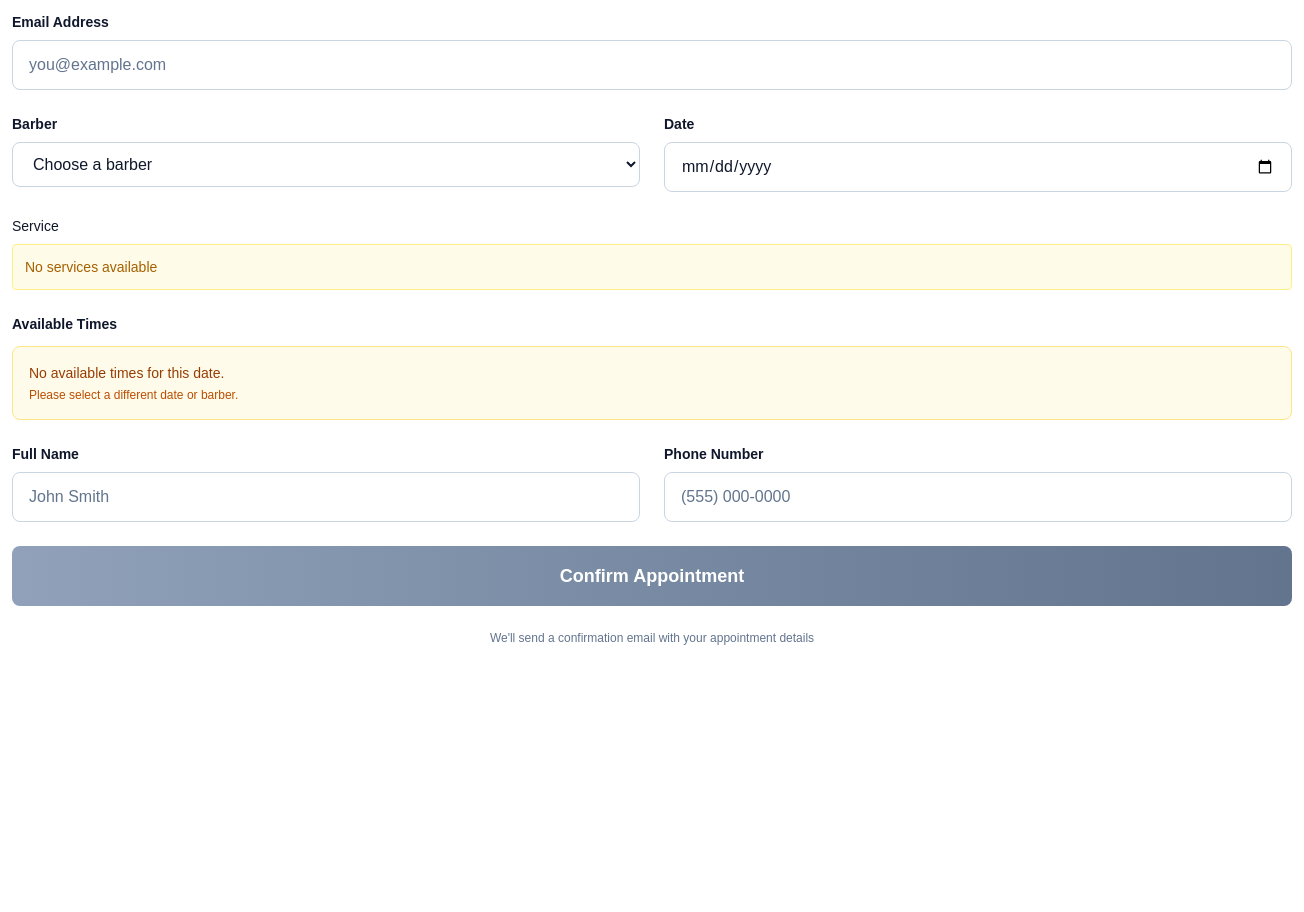
Test: BookingForm Component › Customer Lookup › should show styling notes for returning customer
Type "jane@example.com" into the field labelled "Email Address" at (652, 65), box [12,40,1292,90]
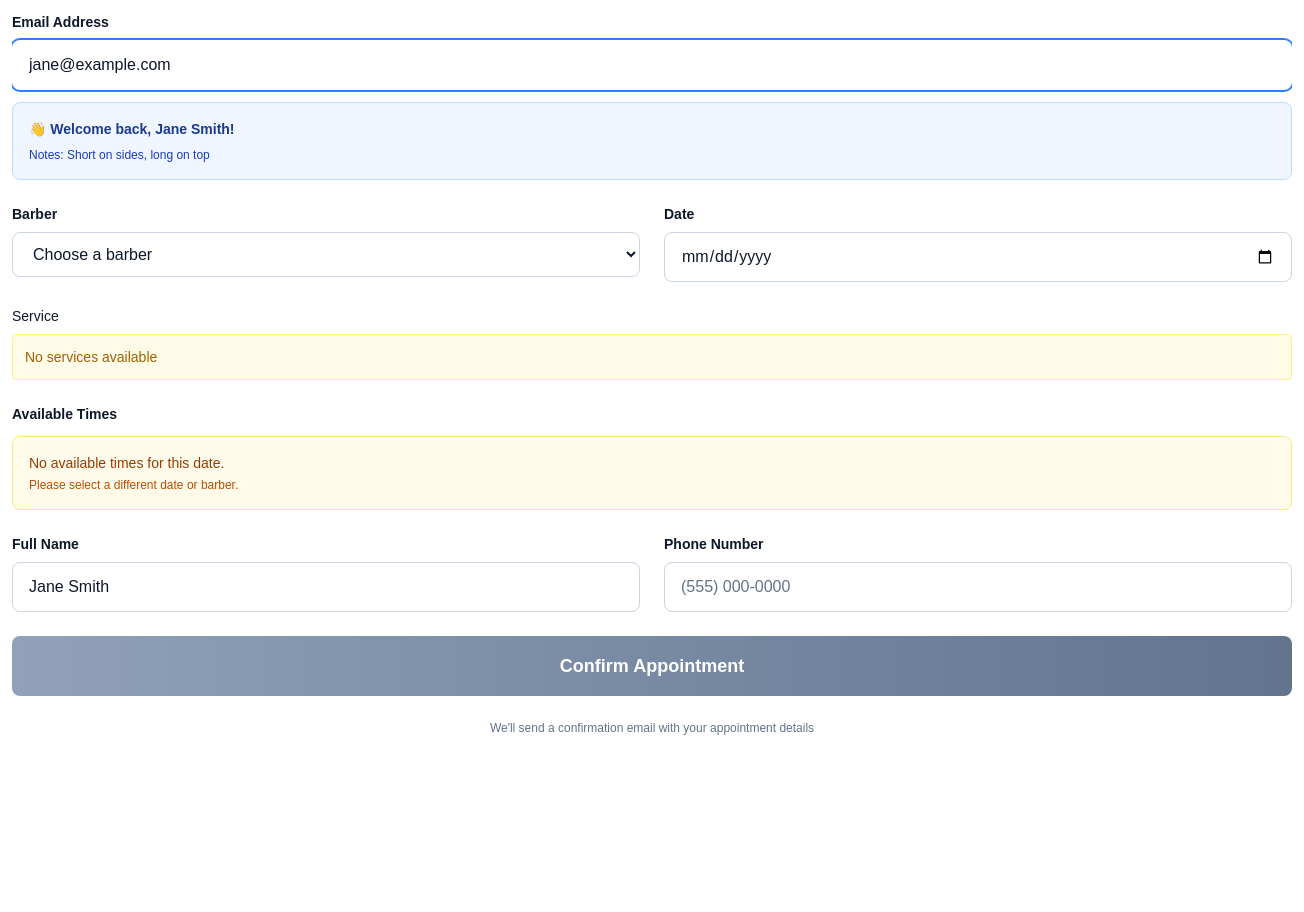
Expected: the text "Notes: Short on sides, long on top" is shown, [29,148,210,162]
